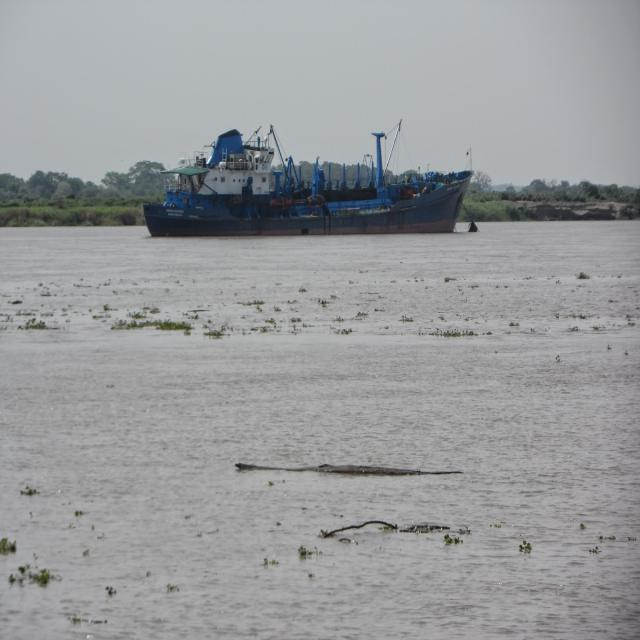fishing boat: (141, 122, 470, 235)
